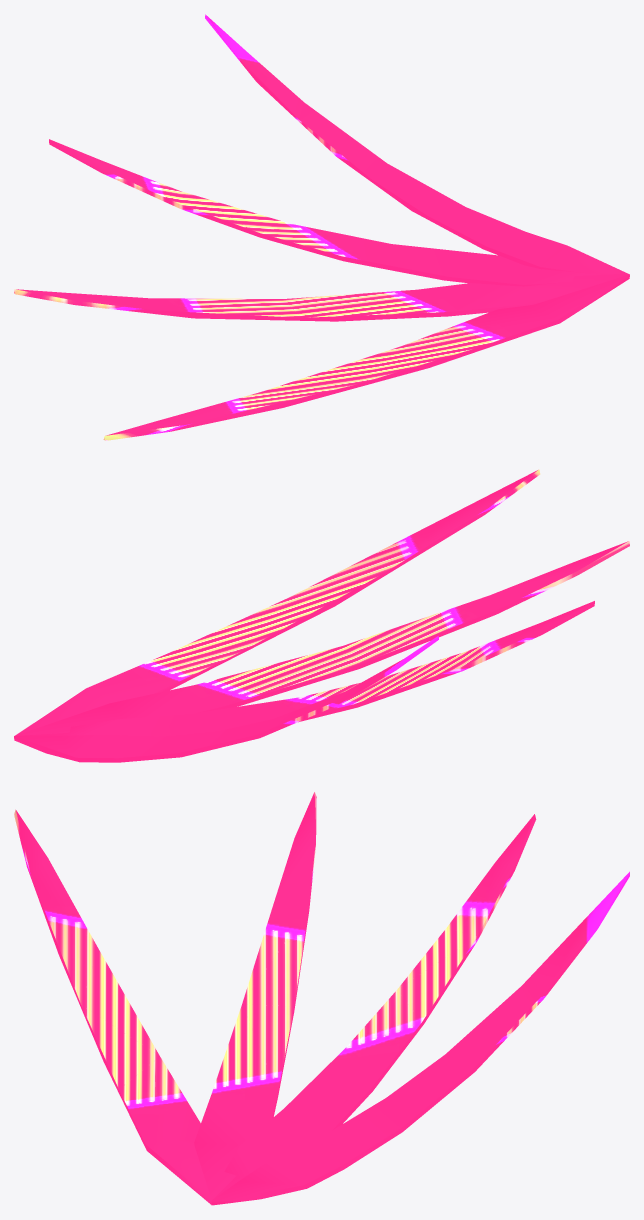
File: WING_L.glb
3 views of the same model, one above another, from view 1: azimuth 30°, elevation 25°; view 2: azimuth 210°, elevation 25°; view 3: azimuth 270°, elevation 25° (orthographic). The views are drawn at different scales.
Visible parts, largest first — view 1: WING_L_03_LITE; view 2: WING_L_03_LITE; view 3: WING_L_03_LITE.
Part boxes in pixels (x1=…): WING_L_03_LITE: x1=14, y1=14, x2=629, y2=440; WING_L_03_LITE: x1=14, y1=469, x2=629, y2=762; WING_L_03_LITE: x1=14, y1=792, x2=629, y2=1205.
Bounding box in the file's own units: 4.27 × 1.23 × 3.34.
1 material, 1 textured.
